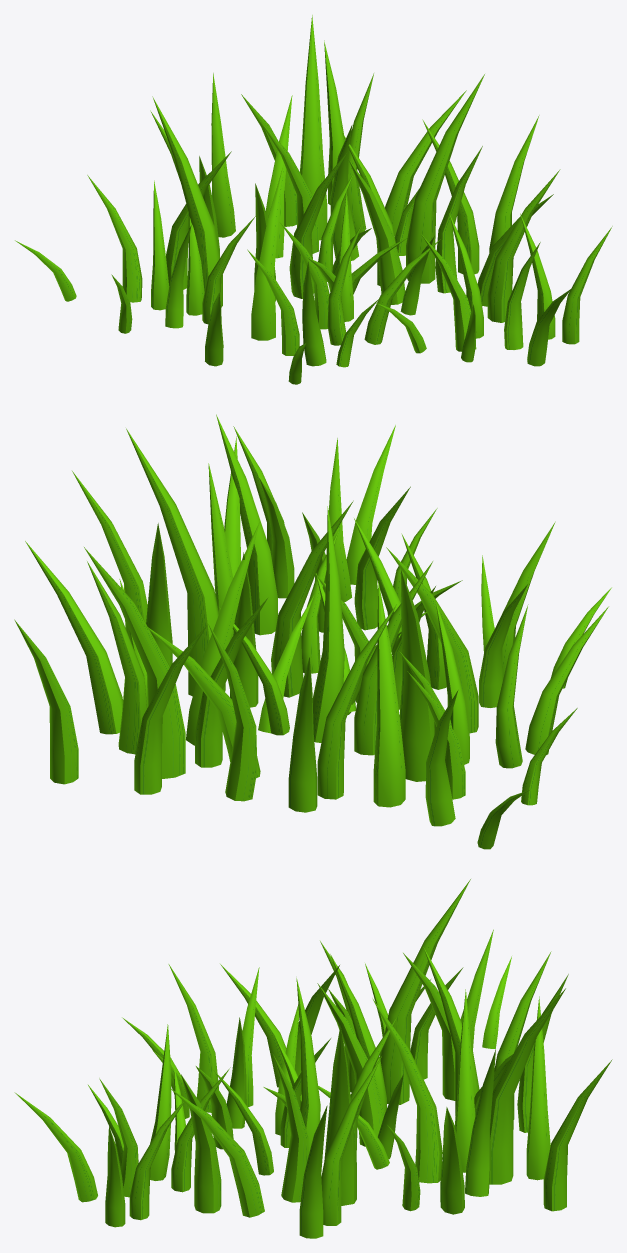
Rendered from grass1.glb.
3 views of the same model, one above another, from view 1: azimuth 30°, elevation 25°; view 2: azimuth 150°, elevation 25°; view 3: azimuth 270°, elevation 25° (orthographic). The views are drawn at different scales.
Visible parts, largest first — view 1: default3_Material_0; view 2: default3_Material_0; view 3: default3_Material_0.
Boxes of the visible parts, x1=… form: default3_Material_0: x1=15, y1=15, x2=612, y2=384; default3_Material_0: x1=14, y1=414, x2=611, y2=849; default3_Material_0: x1=14, y1=879, x2=612, y2=1238.
Bounding box in the file's own units: 1.26 × 0.5451 × 1.35.
1 material, 1 textured.
